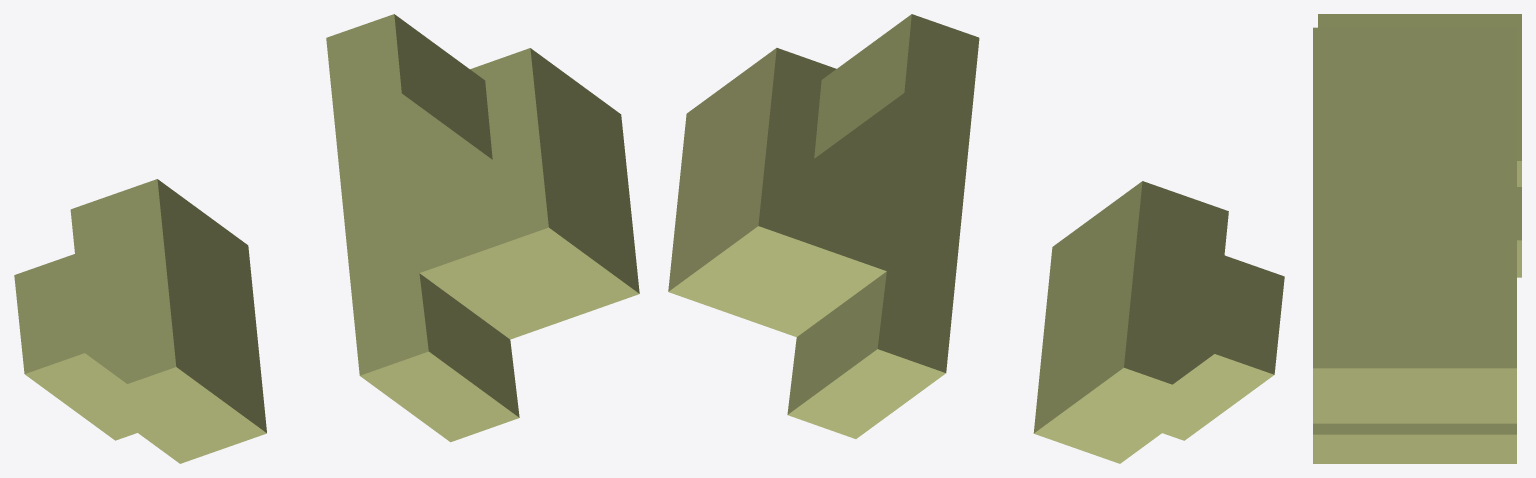
3 views of the same model, side by side, from view 1: azimuth 30°, elevation 25°; view 2: azimuth 150°, elevation 25°; view 3: azimuth 270°, elevation 25° (orthographic). The views are drawn at different scales.
Parts seen in each view (by area): view 1: 0_3_2_2_3_0_0_0_2; view 2: 0_3_2_2_3_0_0_0_2; view 3: 0_3_2_2_3_0_0_0_2.
Part boxes in pixels (left/top/right/bottom): 0_3_2_2_3_0_0_0_2: left=14, top=14, right=639, bottom=463; 0_3_2_2_3_0_0_0_2: left=668, top=14, right=1284, bottom=463; 0_3_2_2_3_0_0_0_2: left=1313, top=14, right=1521, bottom=463.
Size of the model in its own units: 30.45 by 19.31 by 9.22.
